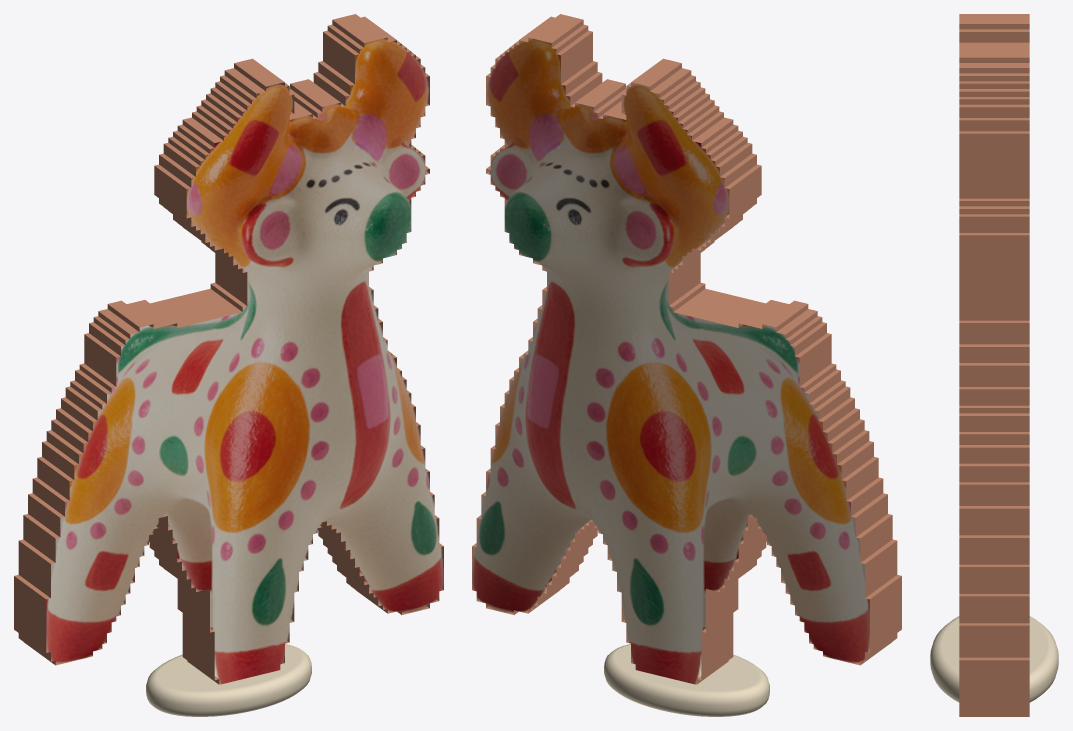
Rendered from ar-deer.glb.
The picture shows the model from 3 angles, left to right: view 1: azimuth 30°, elevation 25°; view 2: azimuth 150°, elevation 25°; view 3: azimuth 270°, elevation 25°; orthographic projection. The views are drawn at different scales.
Visible parts, largest first — view 1: ToyArtworkSilhouette, SmallRoundedDisplayFoot; view 2: ToyArtworkSilhouette, SmallRoundedDisplayFoot; view 3: ToyArtworkSilhouette, SmallRoundedDisplayFoot.
Part boxes in pixels (x1,y1,x2,y2): ToyArtworkSilhouette: [14, 14, 443, 684]; SmallRoundedDisplayFoot: [146, 644, 311, 716]; ToyArtworkSilhouette: [472, 14, 901, 684]; SmallRoundedDisplayFoot: [604, 644, 769, 716]; ToyArtworkSilhouette: [959, 14, 1029, 716]; SmallRoundedDisplayFoot: [930, 616, 1058, 702].
Bounding box in the file's own units: 0.1332 × 0.202 × 0.034.
Materials: 3 (1 with a texture image).
